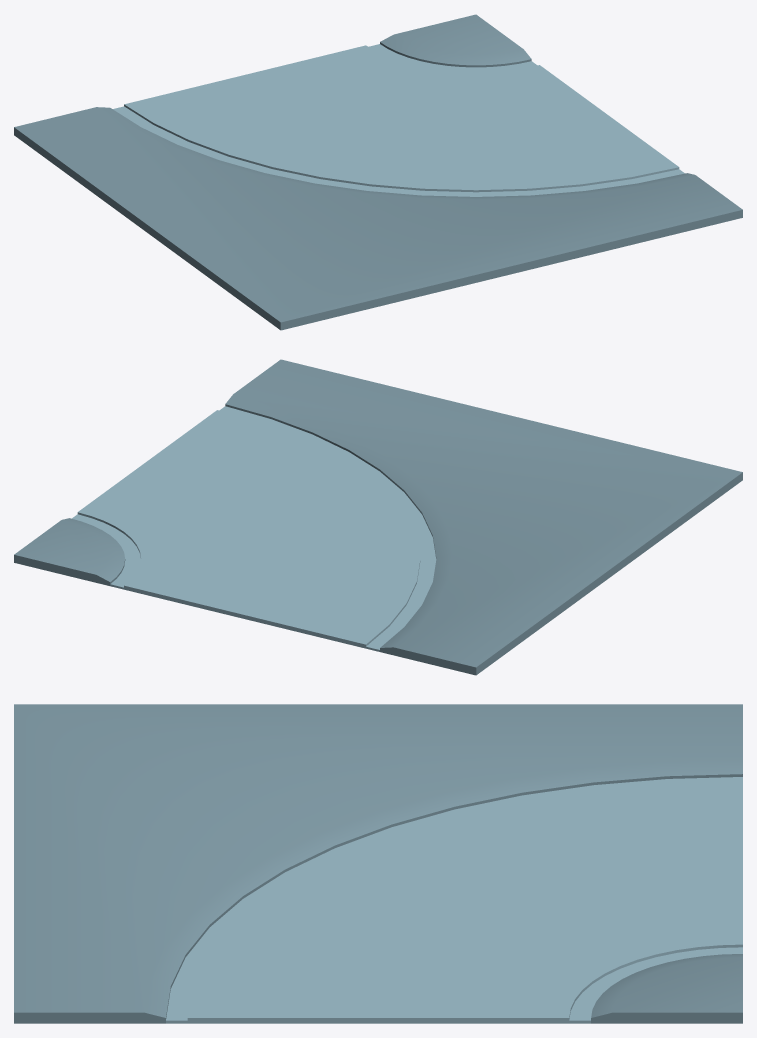
Rendered from roadBend.fbx.
3 views of the same model, one above another, from view 1: azimuth 30°, elevation 25°; view 2: azimuth 150°, elevation 25°; view 3: azimuth 270°, elevation 25° (orthographic). The views are drawn at different scales.
Parts seen in each view (by area): view 1: roadBend; view 2: roadBend; view 3: roadBend.
Boxes of the visible parts, bbox=[...] form: roadBend: bbox=[14, 14, 742, 330]; roadBend: bbox=[14, 359, 742, 675]; roadBend: bbox=[14, 704, 742, 1023].
Bounding box in the file's own units: 30 × 0.5 × 30.
